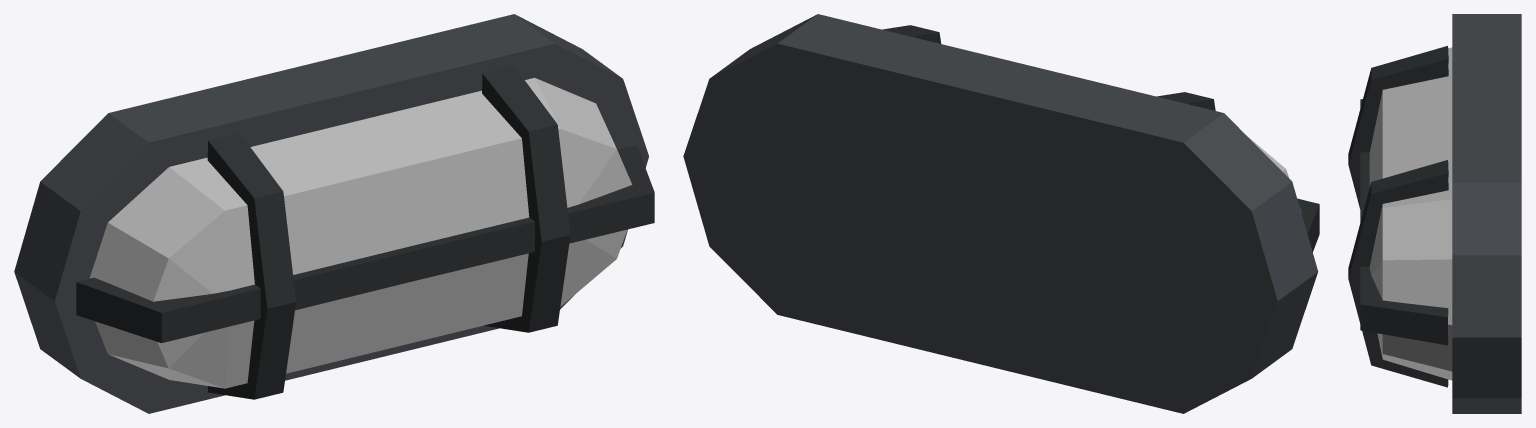
File: SM_Prop_Warehouse_Light_04.obj
The picture shows the model from 3 angles, left to right: view 1: azimuth 30°, elevation 25°; view 2: azimuth 150°, elevation 25°; view 3: azimuth 270°, elevation 25°; orthographic projection. The views are drawn at different scales.
Visible parts, largest first — view 1: SM_Prop_Warehouse_Light_04_0; view 2: SM_Prop_Warehouse_Light_04_0; view 3: SM_Prop_Warehouse_Light_04_0.
Boxes of the visible parts, left/top/right/bottom form: SM_Prop_Warehouse_Light_04_0: left=14, top=14, right=654, bottom=413; SM_Prop_Warehouse_Light_04_0: left=683, top=14, right=1319, bottom=413; SM_Prop_Warehouse_Light_04_0: left=1348, top=14, right=1521, bottom=413.
Size of the model in its own units: 0.4363 by 0.1902 by 0.1291.
Materials: 1 (1 with a texture image).
